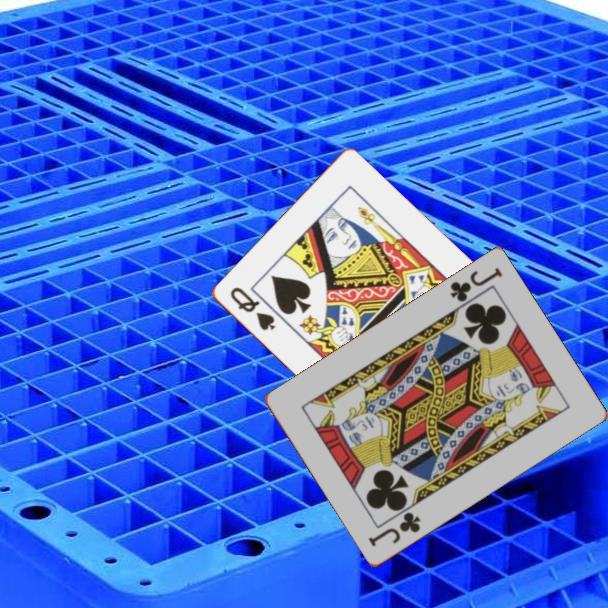c11: (364, 509, 424, 550), (446, 264, 505, 305)
s12: (226, 283, 278, 334)
